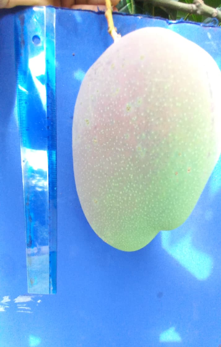Mango-sano: (72, 27, 220, 250)
